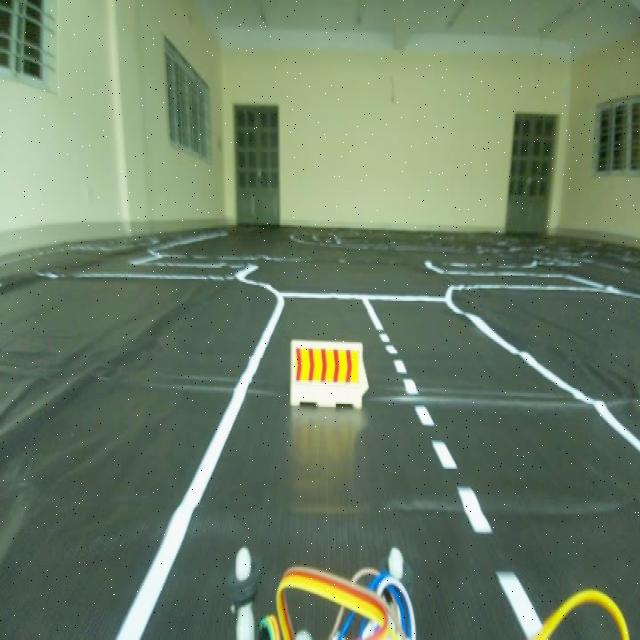roadblock: (285, 326, 377, 432)
